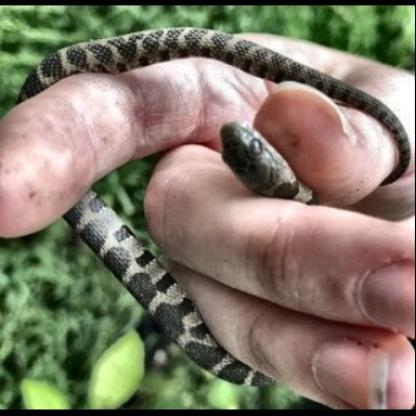Snake: (7, 3, 415, 402)
